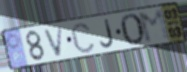8: (25, 28, 47, 63)
C: (69, 21, 97, 55)
J: (99, 18, 115, 49)
M: (136, 7, 173, 45)
O: (119, 12, 147, 47)
V: (43, 25, 65, 58)
